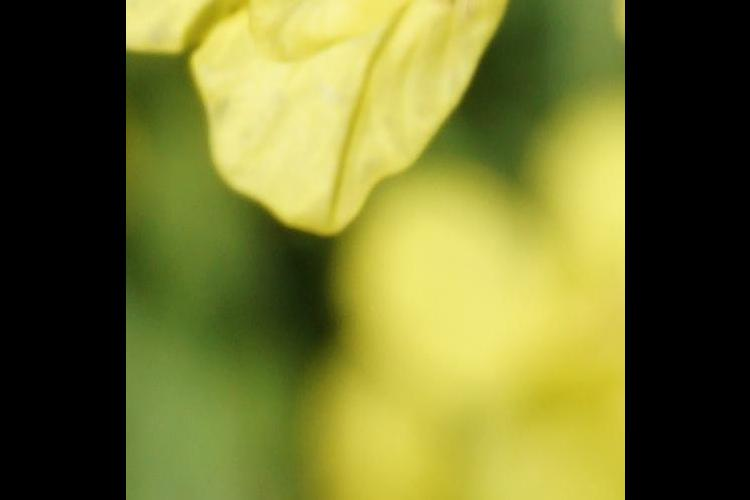yellow: (133, 1, 532, 207)
